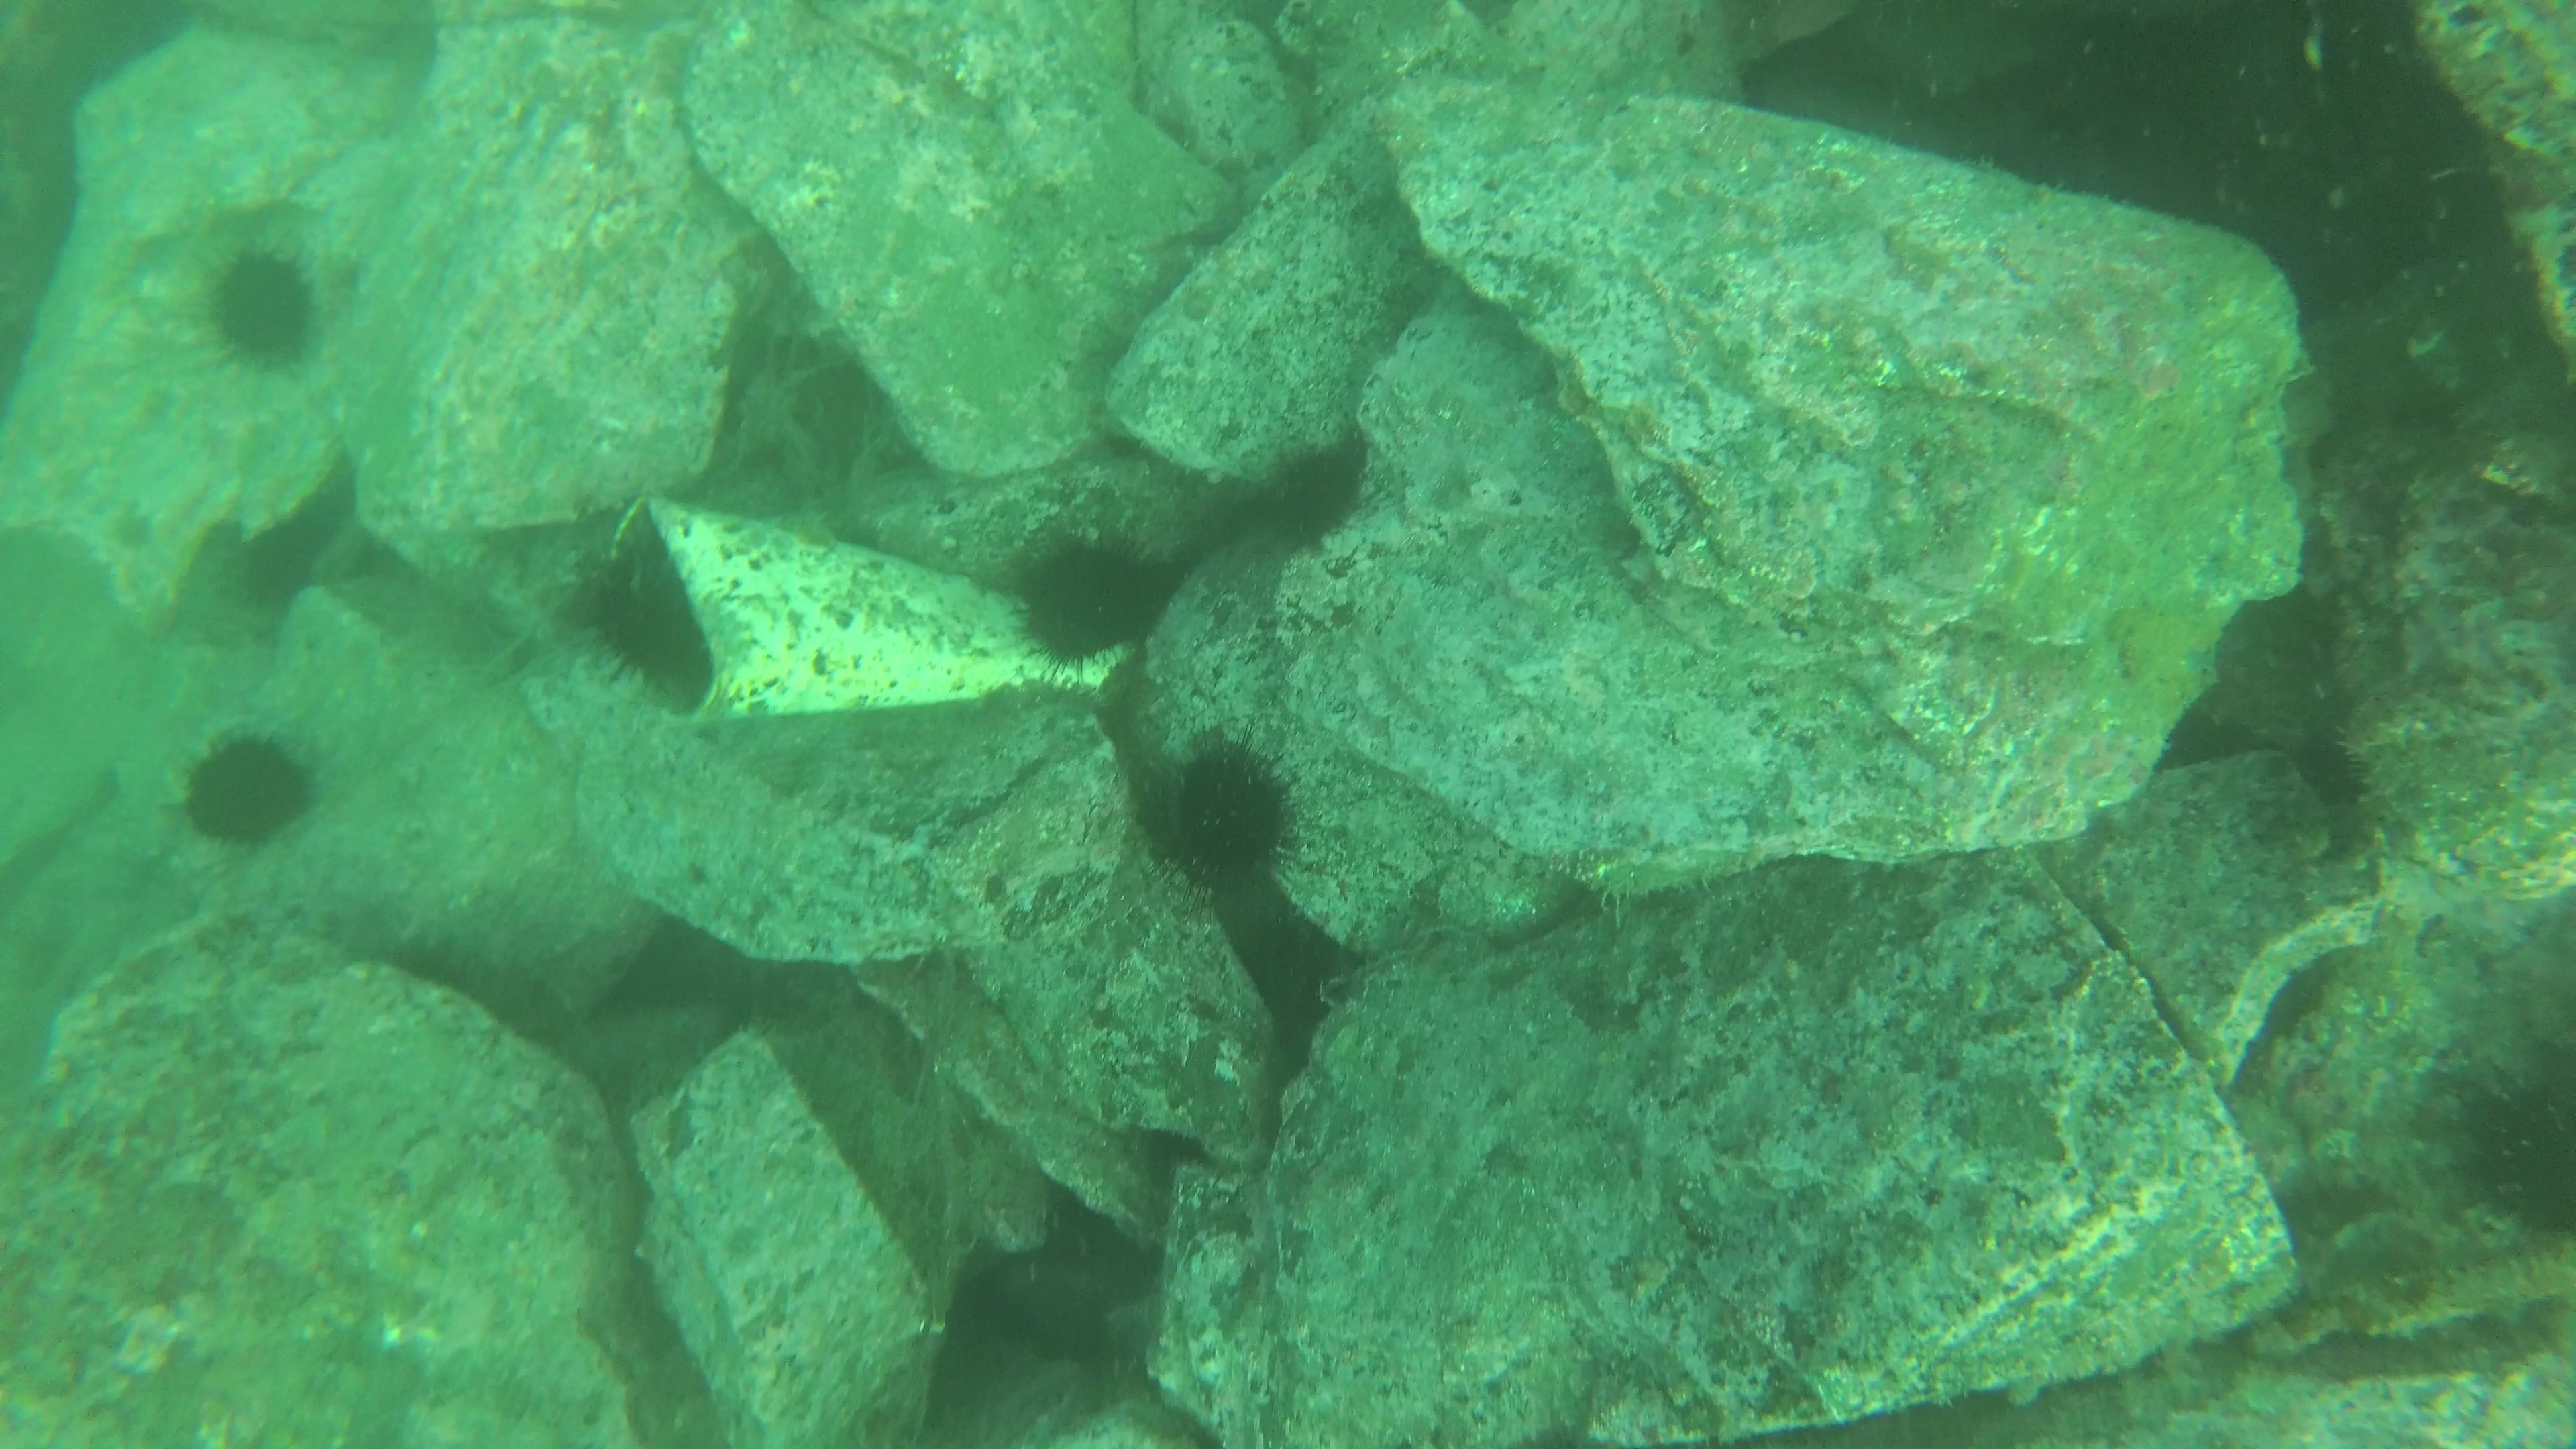echinus: (1001, 524, 1175, 672), (2447, 1046, 2574, 1246), (1148, 731, 1304, 892), (570, 547, 722, 708), (175, 725, 322, 853), (196, 241, 326, 373), (225, 511, 333, 619)
holothurian: (2323, 686, 2463, 784)
